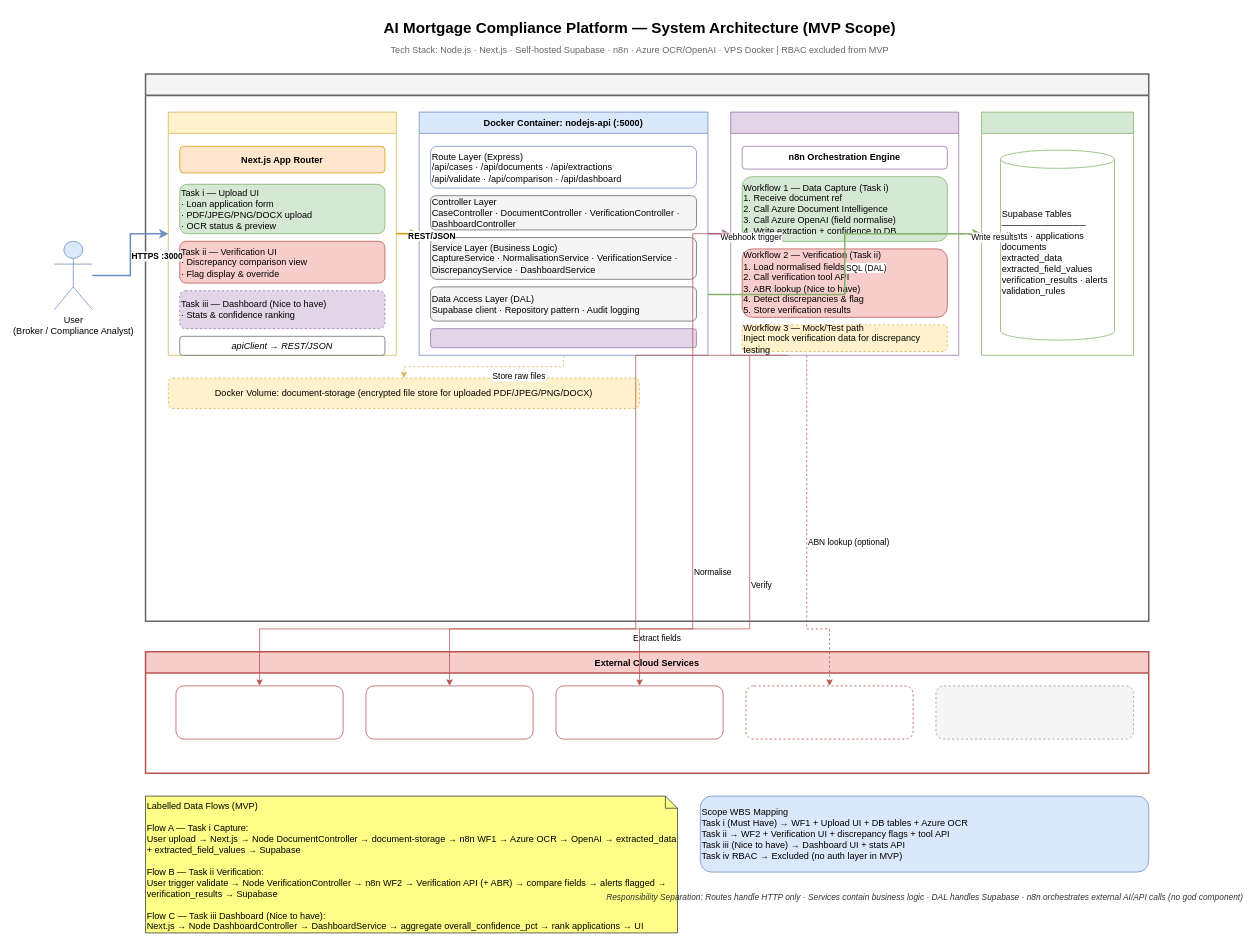
The diagram is 1256 pixels wide and 946 high, and some of its shapes have lost their labels. The box of each missing label's shape, as (x1, y1, x2, y2) in pixels:
ABR API (Australian Business Registry) Task ii — Nice to have: (745, 685, 913, 739)
Azure Document Intelligence (OCR — Task i Must Have) PDF · JPEG · PNG · DOCX: (175, 685, 343, 739)
Azure OpenAI (Field normalisation — Task i) Structured JSON output: (365, 685, 533, 739)
Docker Container: n8n (:5678): (730, 111, 959, 355)
Docker Container: nextjs-frontend (:3000): (168, 111, 396, 355)
Docker Container: supabase-db (PostgreSQL :5432): (981, 111, 1134, 355)
Out of MVP Scope: RBAC · Mercury CRM · Smartfinn · Automated loan decision: (935, 685, 1134, 739)
Triggers n8n via Webhook / REST: (430, 328, 697, 348)
Verification Tool API (Task ii — from i.a research) Third-party compliance check: (555, 685, 723, 739)
VPS Server — Docker Host (All components containerised per client requirement): (144, 73, 1149, 622)
